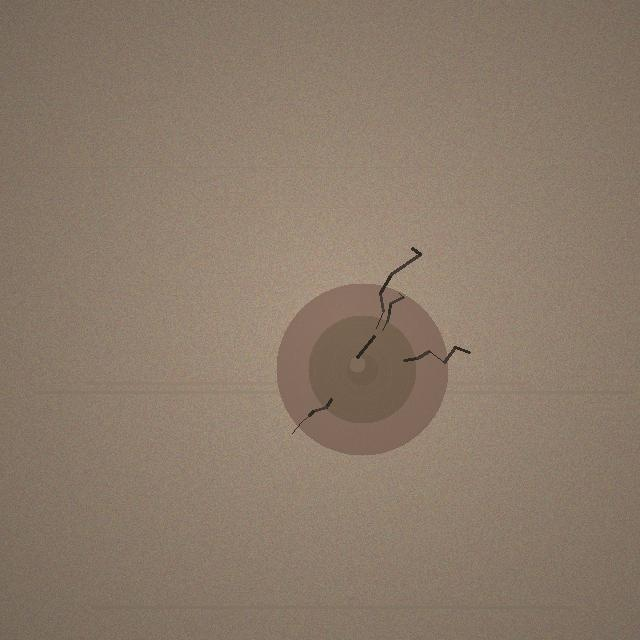crack: (276, 283, 448, 455)
